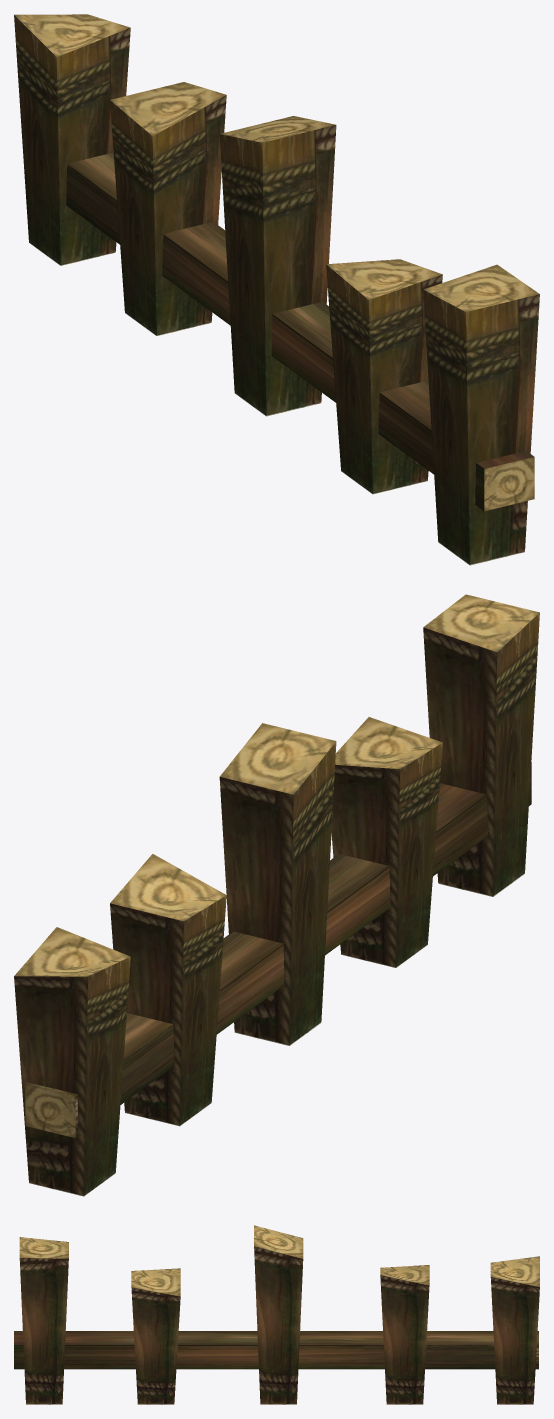
The model's file is shamo_wujian_liba.fbx.
The picture shows the model from 3 angles, top to bottom: view 1: azimuth 30°, elevation 25°; view 2: azimuth 150°, elevation 25°; view 3: azimuth 270°, elevation 25°; orthographic projection. The views are drawn at different scales.
Parts seen in each view (by area): view 1: polySurface281, polySurface278, polySurface279, polySurface282, polySurface283, polySurface280; view 2: polySurface278, polySurface281, polySurface282, polySurface279, polySurface280, polySurface283; view 3: polySurface283, polySurface278, polySurface281, polySurface282, polySurface279, polySurface280.
Boxes of the visible parts, x1,y1,x2,y2 form: polySurface281: [423, 264, 539, 565]; polySurface278: [219, 116, 336, 416]; polySurface279: [110, 82, 226, 335]; polySurface282: [14, 14, 130, 265]; polySurface283: [66, 152, 534, 511]; polySurface280: [326, 259, 442, 494]; polySurface278: [219, 723, 336, 1045]; polySurface281: [423, 594, 539, 896]; polySurface282: [14, 927, 130, 1196]; polySurface279: [110, 854, 226, 1126]; polySurface280: [331, 717, 442, 967]; polySurface283: [25, 762, 531, 1138]; polySurface283: [14, 1331, 538, 1369]; polySurface278: [254, 1225, 303, 1404]; polySurface281: [19, 1237, 68, 1404]; polySurface282: [490, 1256, 539, 1404]; polySurface279: [380, 1265, 429, 1404]; polySurface280: [131, 1268, 180, 1404].
Bounding box in the file's own units: 1 × 3.61 × 10.69.
